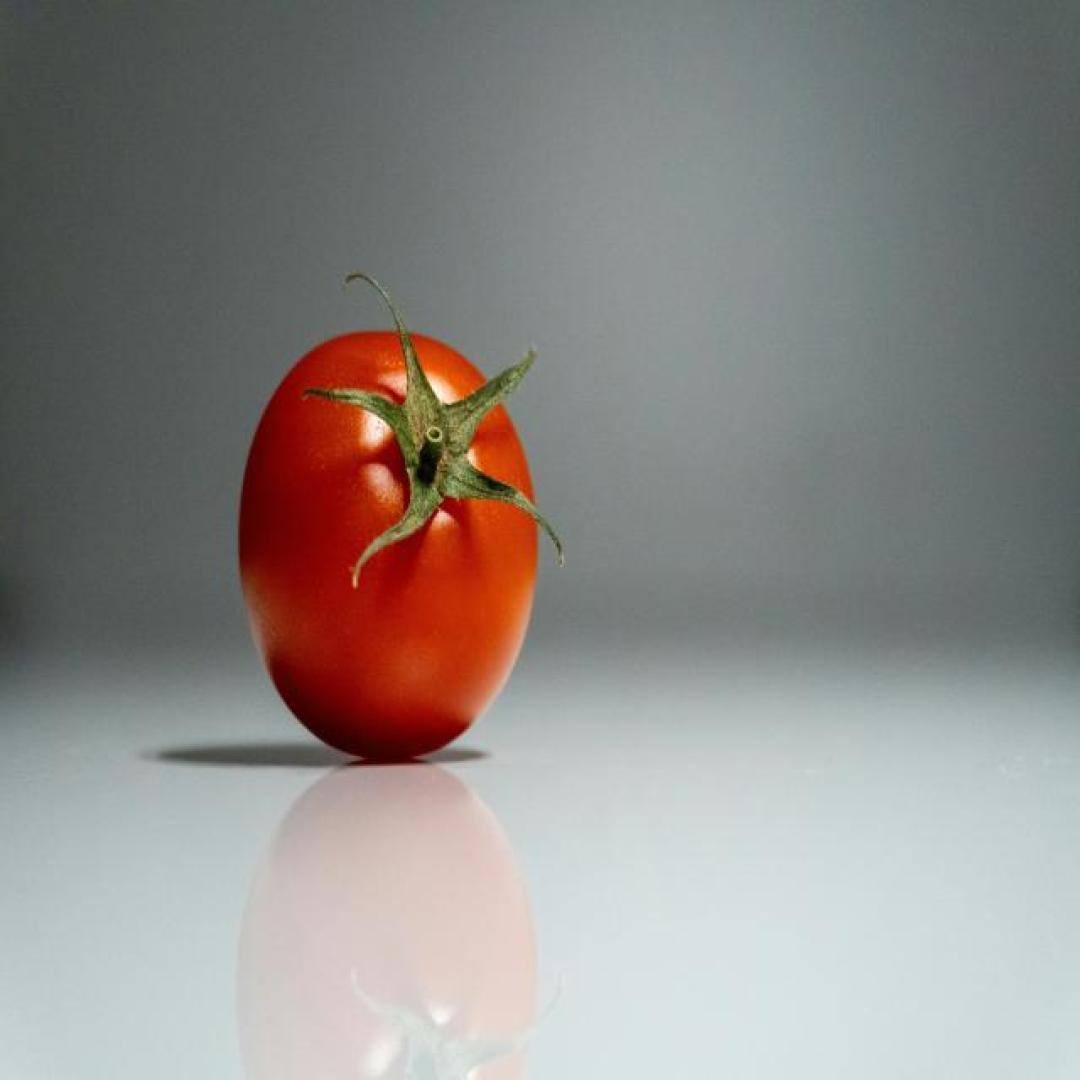matang: (238, 329, 538, 759)
